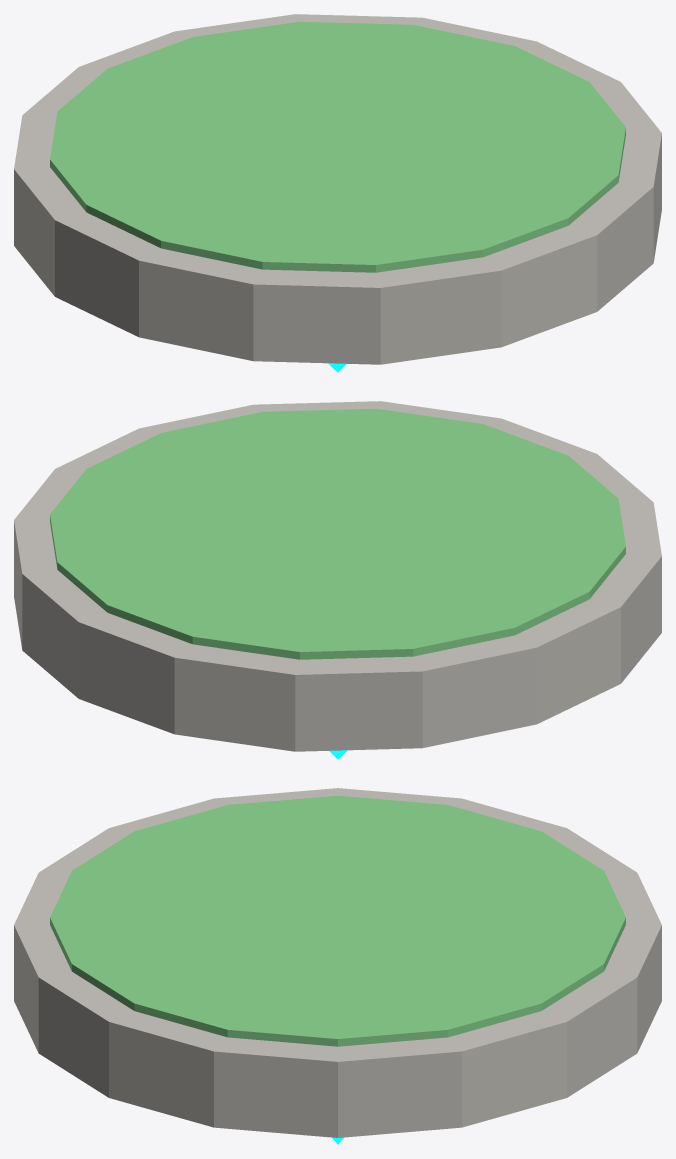
File: stepping_stone.glb
3 views of the same model, one above another, from view 1: azimuth 30°, elevation 25°; view 2: azimuth 150°, elevation 25°; view 3: azimuth 270°, elevation 25° (orthographic).
Visible parts, largest first — view 1: StepMoss, StepBody; view 2: StepMoss, StepBody; view 3: StepMoss, StepBody.
Part boxes in pixels (left/top/right/bottom): StepMoss: left=50, top=21, right=625, bottom=272; StepBody: left=14, top=14, right=661, bottom=364; StepMoss: left=50, top=408, right=625, bottom=659; StepBody: left=14, top=401, right=661, bottom=751; StepMoss: left=50, top=795, right=625, bottom=1046; StepBody: left=14, top=788, right=661, bottom=1137.
Size of the model in its own units: 2.7 by 1.05 by 2.7.
